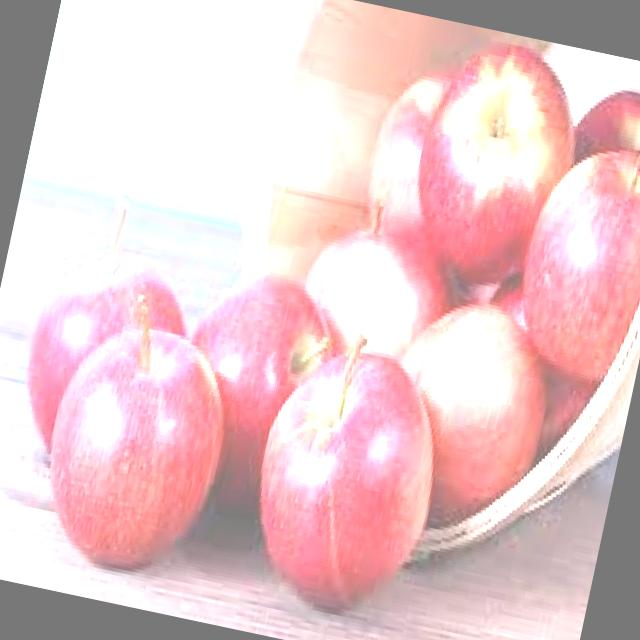Apple: (233, 316, 462, 626), (25, 282, 248, 584), (9, 182, 211, 476), (394, 27, 594, 298), (155, 258, 345, 527), (366, 284, 564, 540), (501, 128, 640, 394), (290, 190, 468, 376), (352, 61, 461, 244), (566, 74, 640, 181)
